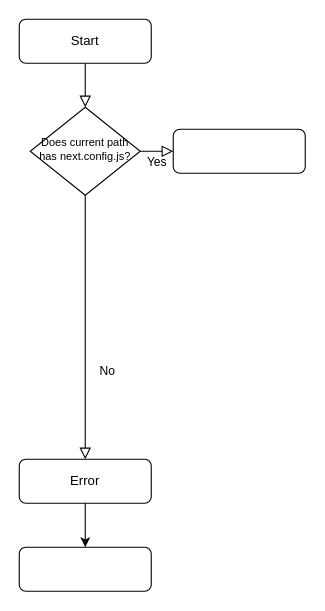
Some shapes in this 325 by 611 pixel diagram are drawn without their labels. Each missing label, with the centre of its shape:
"Do something ...." goes at (x=238, y=150).
"Exit" goes at (x=84, y=568).
